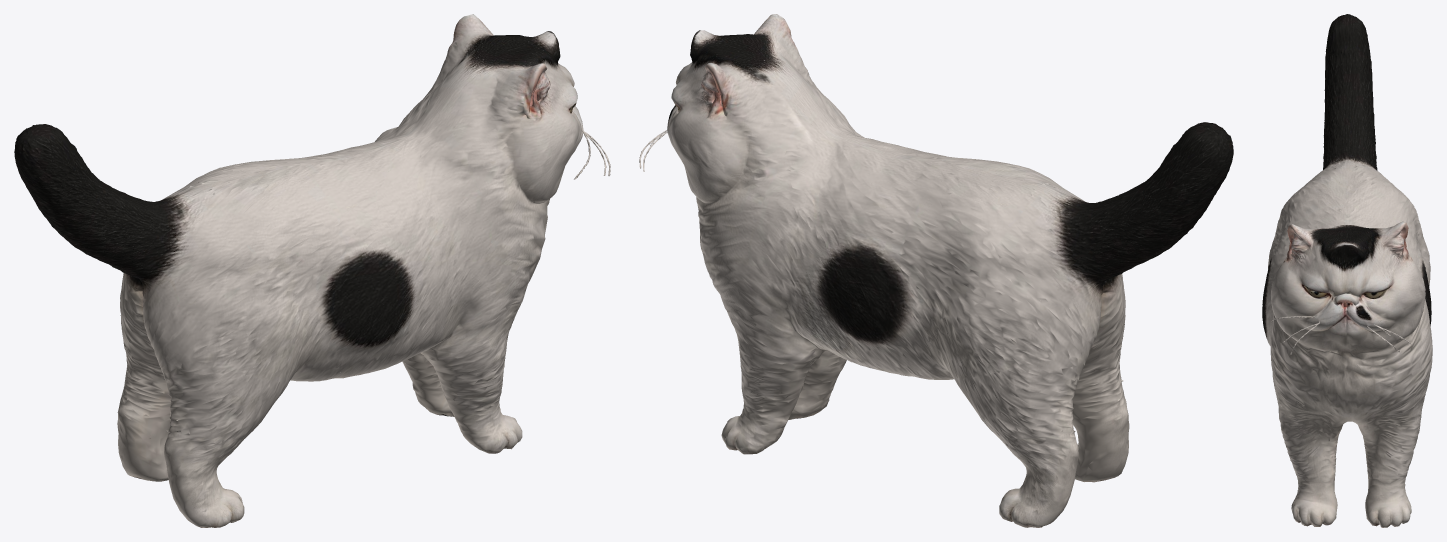
The model's file is OJINEKO.glb.
3 renders of one model, left to right at view 1: azimuth 30°, elevation 25°; view 2: azimuth 150°, elevation 25°; view 3: azimuth 270°, elevation 25°, orthographic. The views are drawn at different scales.
Visible parts, largest first — view 1: tripo_node_26896545-21b7-464c-9e72-6ab543120349; view 2: tripo_node_26896545-21b7-464c-9e72-6ab543120349; view 3: tripo_node_26896545-21b7-464c-9e72-6ab543120349.
Part boxes in pixels (<box>): tripo_node_26896545-21b7-464c-9e72-6ab543120349: <box>14,14,610,527</box>; tripo_node_26896545-21b7-464c-9e72-6ab543120349: <box>639,14,1233,527</box>; tripo_node_26896545-21b7-464c-9e72-6ab543120349: <box>1262,14,1432,527</box>.
Size of the model in its own units: 1.44 by 0.9988 by 0.4638.
Materials: 1 (1 with a texture image).
